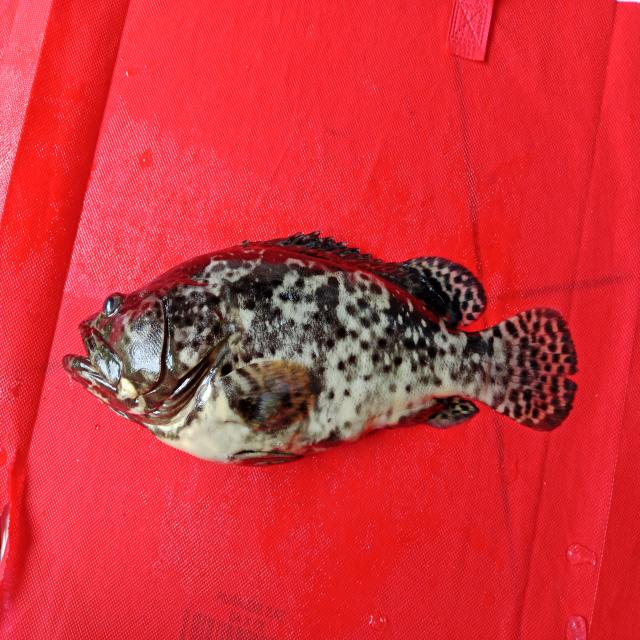ikan: (48, 201, 590, 479)
